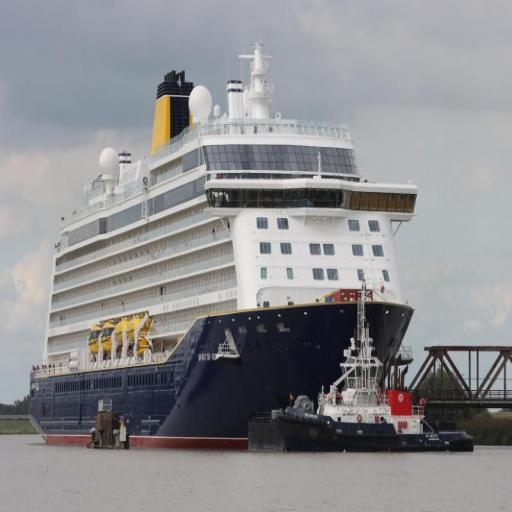cruises: (27, 44, 418, 457)
